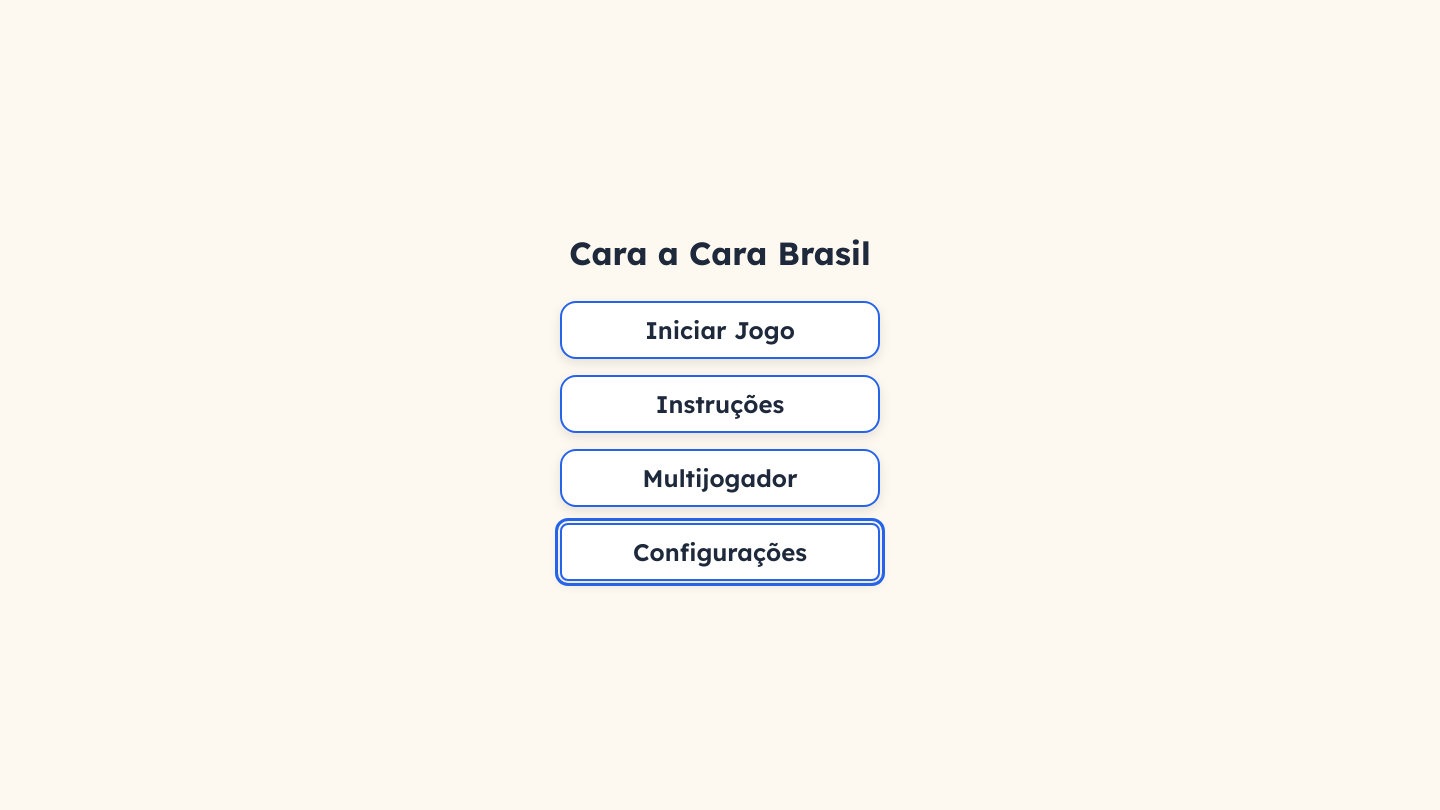
it: MenuScreen › "Instruções" button click → shows instructions overlay
Click the button "Instruções": (720, 404) x1=560 y1=375 x2=880 y2=433
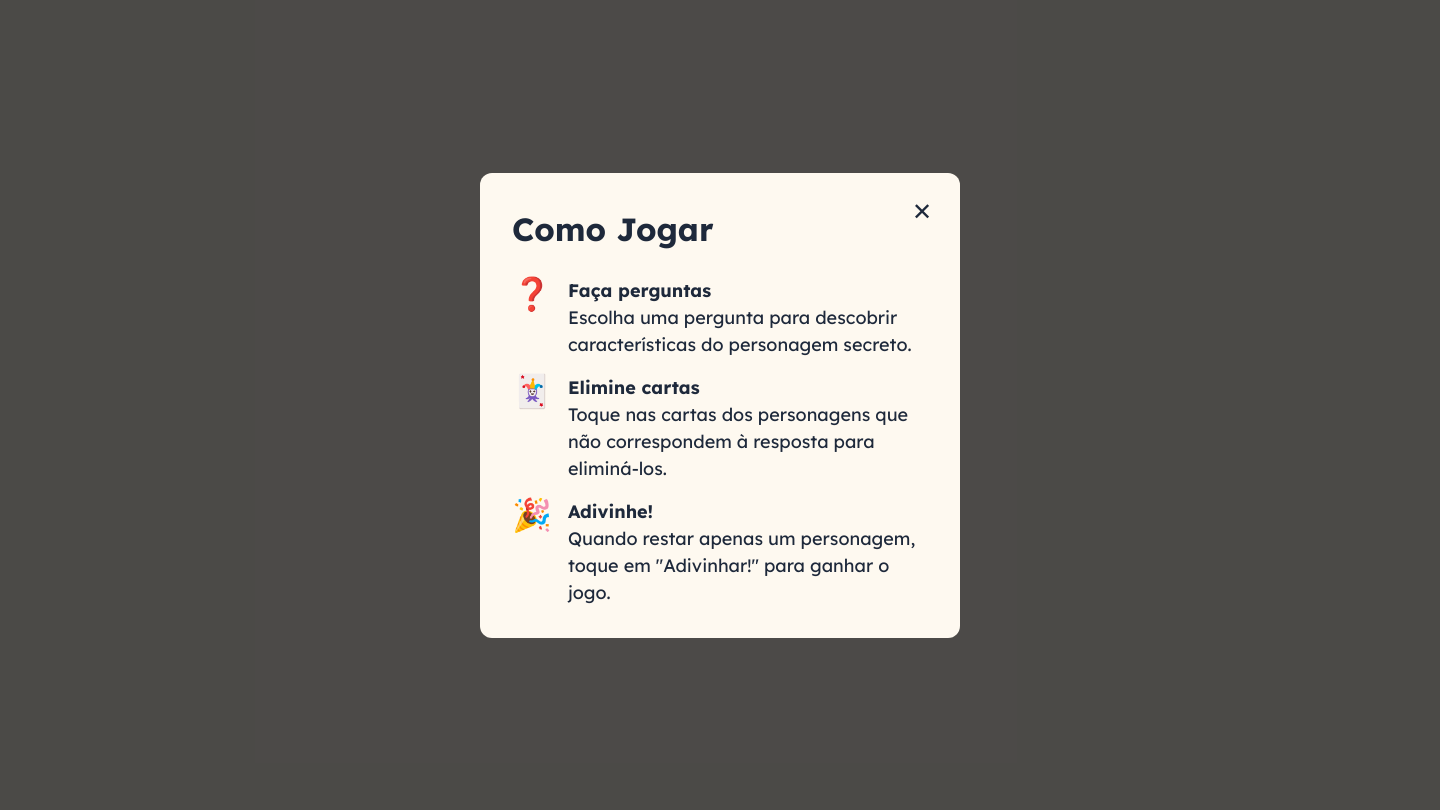
Now the dialog named "instruções do jogo" is shown
